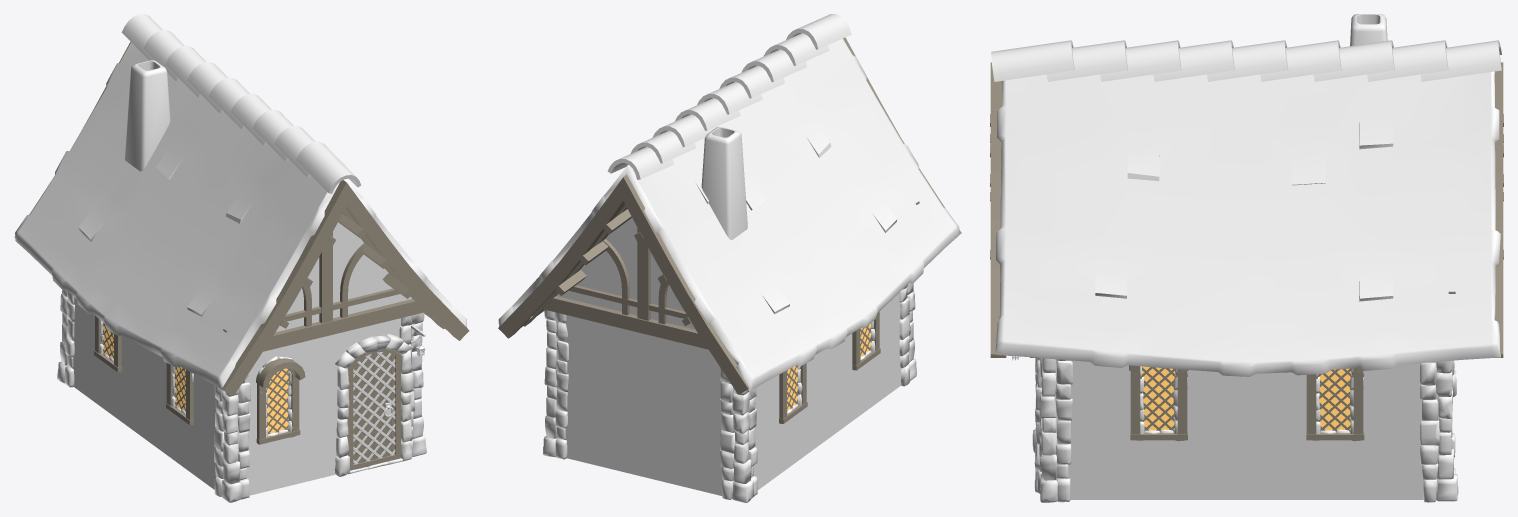
Rendered from icemantle_fisher_home.glb.
3 renders of one model, left to right at view 1: azimuth 30°, elevation 25°; view 2: azimuth 150°, elevation 25°; view 3: azimuth 270°, elevation 25°, orthographic. The views are drawn at different scales.
Parts seen in each view (by area): view 1: village/MI_FlatTiles, village/MI_UnevenBrick, village/MI_WoodTrim, village/MI_RockTrim, village/MI_RoundTiles, village/MI_WoodTrim_Wear, village/MI_MetalOrnaments, village/MI_WindowGlass; view 2: village/MI_FlatTiles, village/MI_UnevenBrick, village/MI_WoodTrim, village/MI_RockTrim, village/MI_RoundTiles, village/MI_WoodTrim_Wear; view 3: village/MI_FlatTiles, village/MI_UnevenBrick, village/MI_RoundTiles, village/MI_RockTrim, village/MI_WoodTrim, village/MI_WoodTrim_Wear, village/MI_WindowGlass.
Part boxes in pixels (<box>): village/MI_FlatTiles: <box>15,42,466,390</box>; village/MI_UnevenBrick: <box>68,60,420,495</box>; village/MI_WoodTrim: <box>14,41,469,434</box>; village/MI_RockTrim: <box>57,289,426,502</box>; village/MI_RoundTiles: <box>121,14,361,193</box>; village/MI_WoodTrim_Wear: <box>94,316,401,470</box>; village/MI_MetalOrnaments: <box>353,352,395,464</box>; village/MI_WindowGlass: <box>103,323,288,433</box>; village/MI_FlatTiles: <box>498,38,959,391</box>; village/MI_UnevenBrick: <box>548,127,900,495</box>; village/MI_WoodTrim: <box>498,37,961,411</box>; village/MI_RockTrim: <box>543,283,916,502</box>; village/MI_RoundTiles: <box>607,14,851,179</box>; village/MI_WoodTrim_Wear: <box>779,312,880,423</box>; village/MI_FlatTiles: <box>995,71,1500,376</box>; village/MI_UnevenBrick: <box>1043,14,1450,499</box>; village/MI_RoundTiles: <box>991,40,1501,81</box>; village/MI_RockTrim: <box>1032,358,1458,502</box>; village/MI_WoodTrim: <box>990,62,1503,432</box>; village/MI_WoodTrim_Wear: <box>1129,365,1364,440</box>; village/MI_WindowGlass: <box>1142,366,1351,432</box>.
Bounding box in the file's own units: 5.7 × 6.53 × 7.59.
